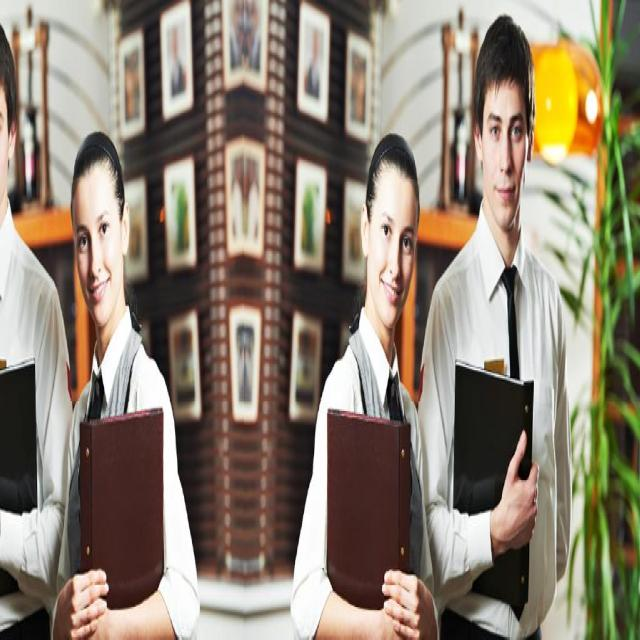nomask: (370, 154, 418, 329), (482, 59, 530, 226), (75, 176, 121, 323)
